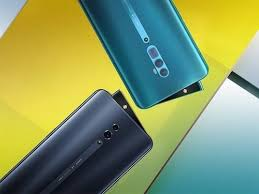oppo: (1, 89, 161, 193)
